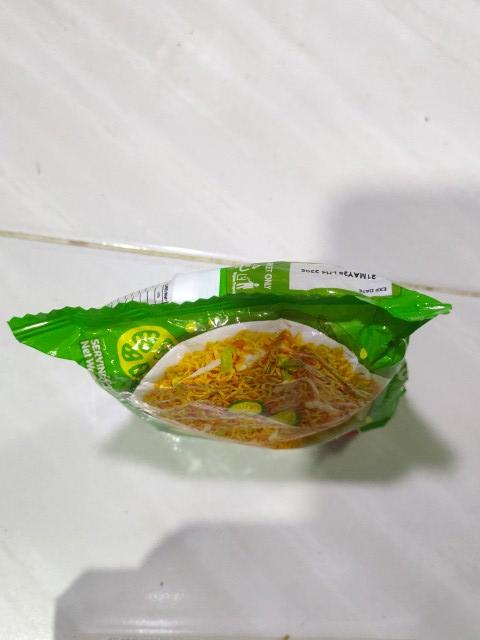Noodles: (7, 255, 452, 457)
